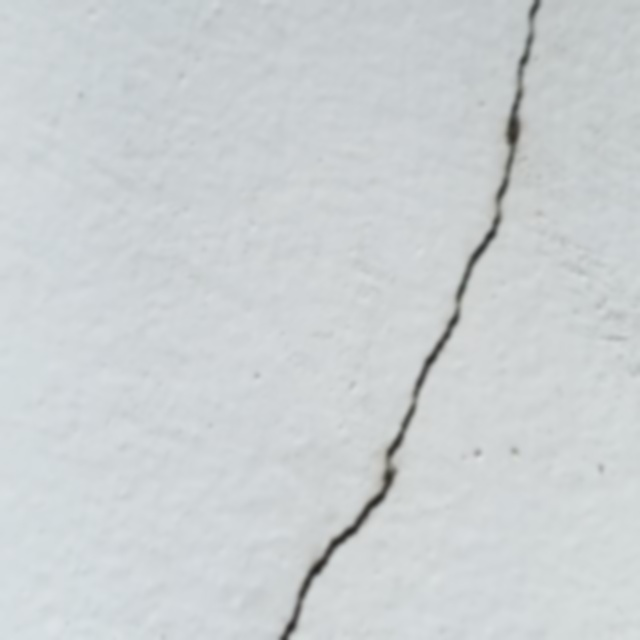SurfaceCrack: (242, 1, 568, 640)
